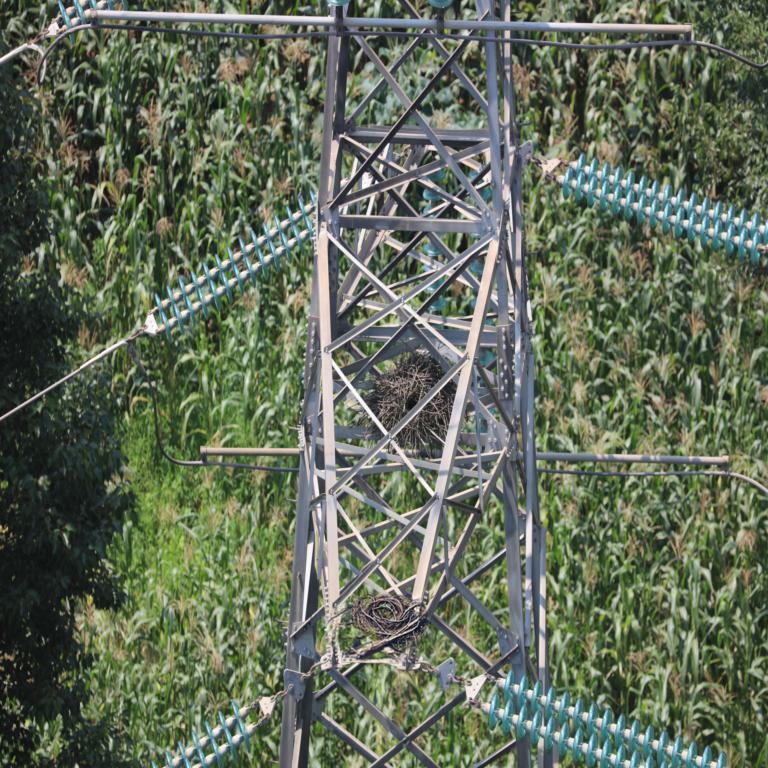nest: (374, 365, 452, 451), (356, 600, 415, 641)
